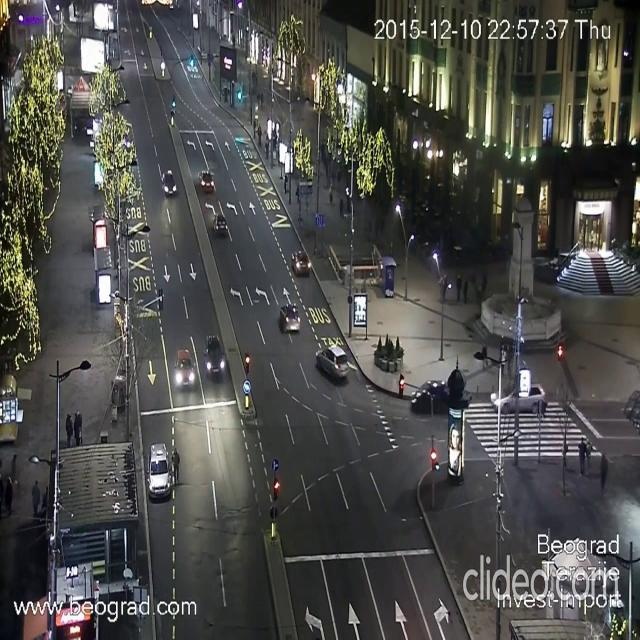car: (490, 381, 544, 412), (146, 442, 172, 498), (410, 378, 449, 412), (315, 344, 349, 380), (202, 333, 225, 378), (174, 348, 195, 388), (280, 303, 300, 333), (291, 250, 311, 276), (160, 169, 177, 196), (212, 209, 228, 236), (198, 170, 216, 193)
